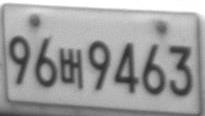3: (168, 45, 194, 97)
4: (113, 41, 140, 93)
6: (141, 43, 166, 95), (34, 37, 58, 87)
9: (87, 39, 111, 91), (7, 34, 31, 84)
버: (58, 47, 84, 90)
